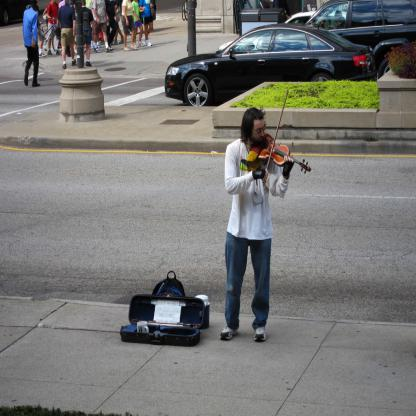Car: (163, 23, 381, 107), (308, 0, 416, 78), (0, 0, 38, 26), (281, 12, 350, 24)
